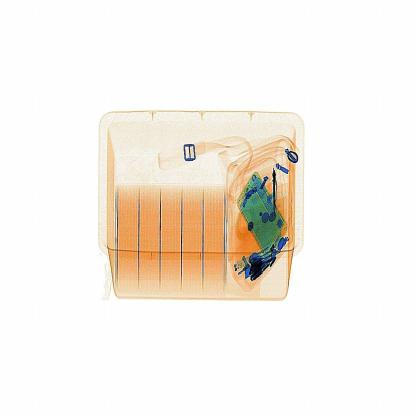knife: (266, 164, 280, 222)
